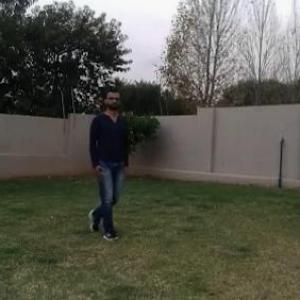follow: (90, 87, 126, 227)
